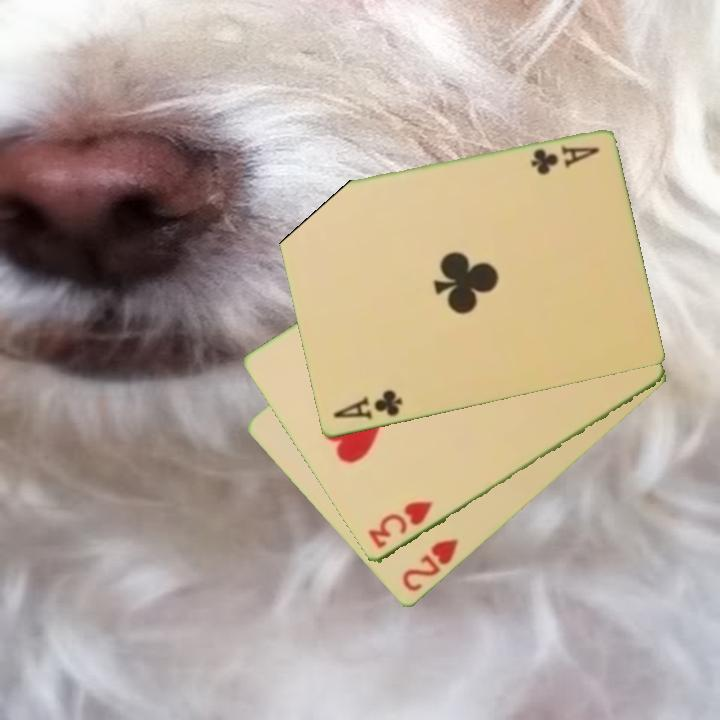2h: (398, 535, 461, 595)
3h: (364, 498, 435, 553)
Ac: (329, 387, 405, 424), (527, 142, 602, 177)
